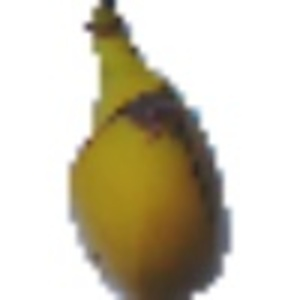banana: (69, 2, 239, 300)
